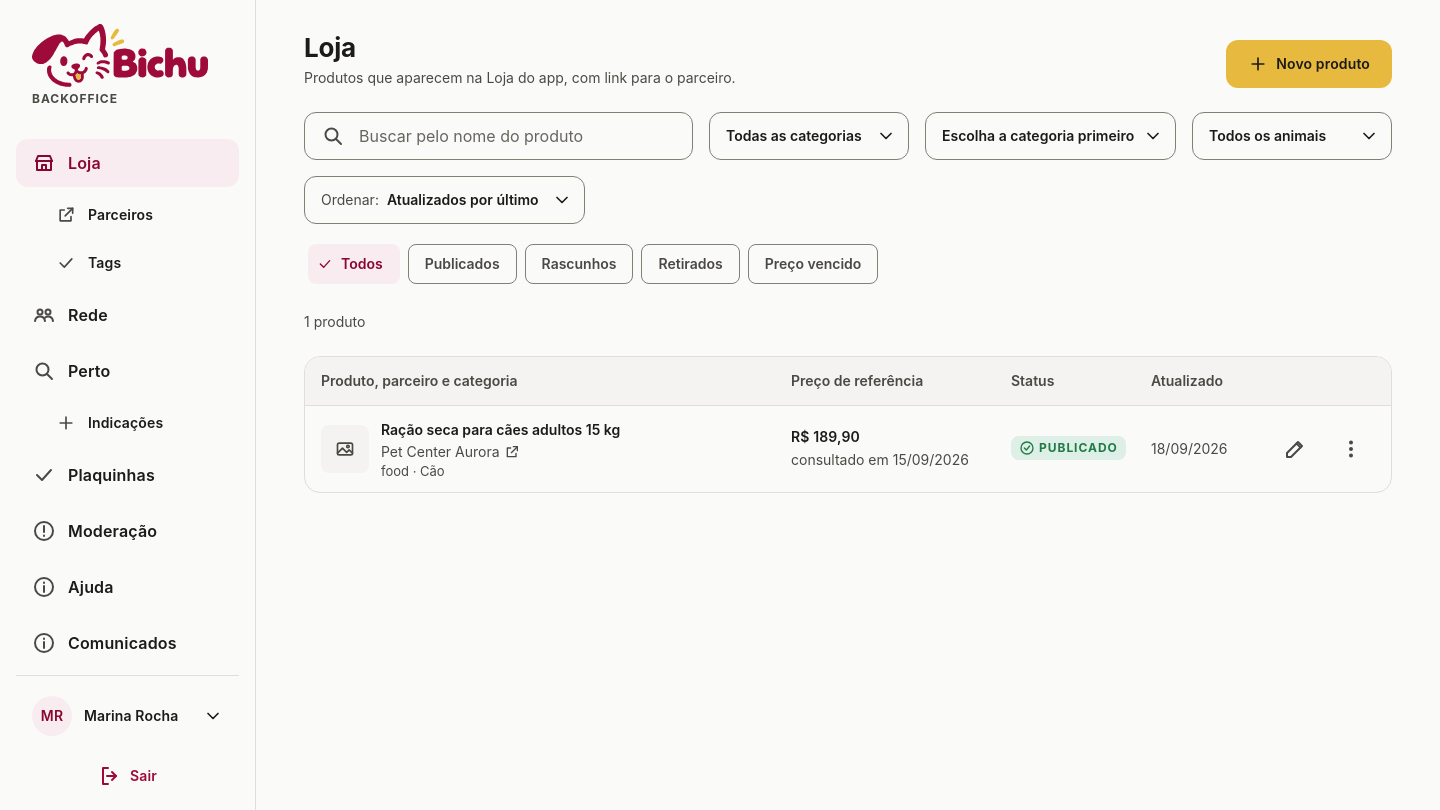
Test case: defeito 7: ganchos data-cy para o teste de ponta a ponta de hml › lista e formulario da Loja
The image size is (1440, 810).
Expected: the text "1 produto" is shown, left=304, top=313, right=365, bottom=330
Click the link with test id "loja-novo-produto" at (1309, 64), box left=1226, top=40, right=1392, bottom=88
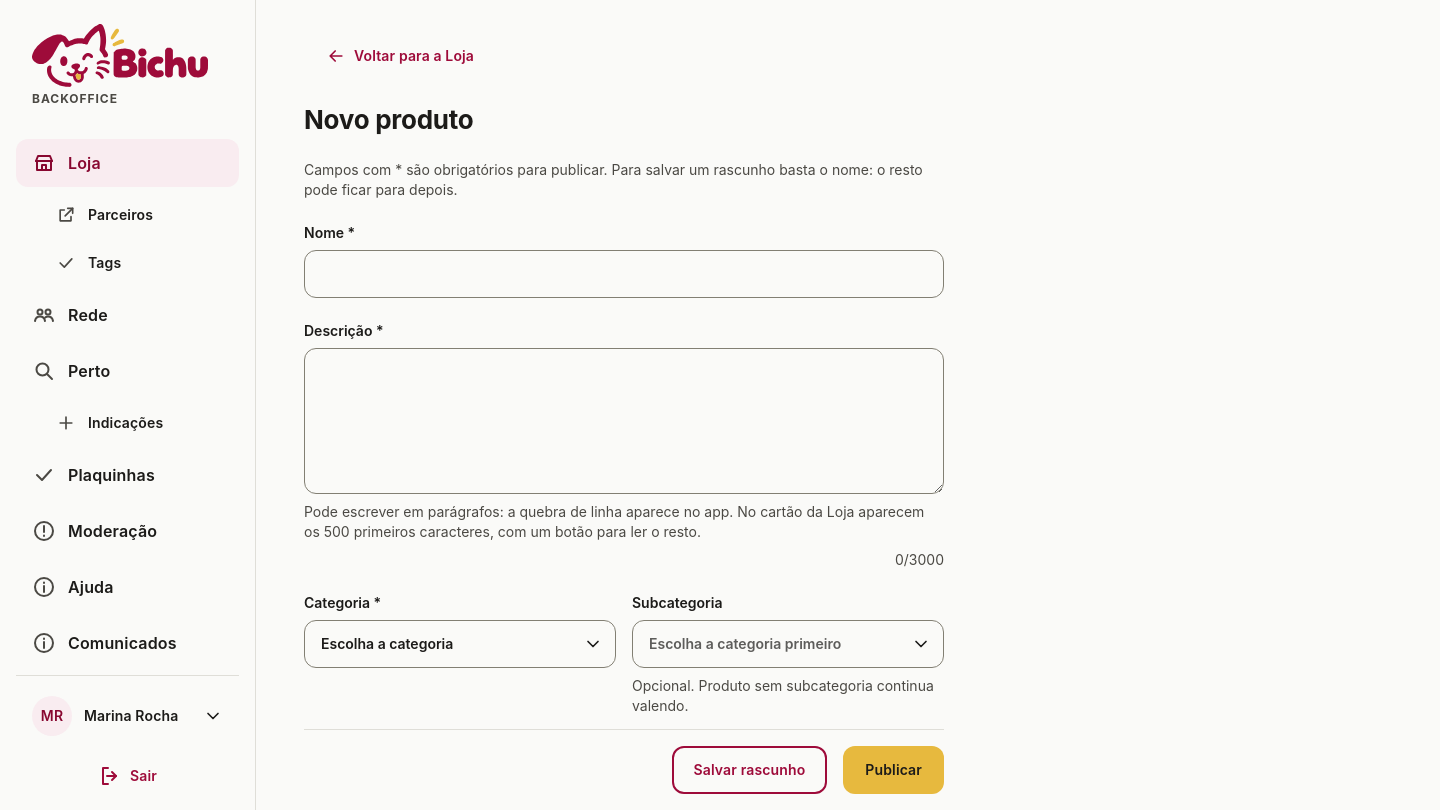
Expected: the field labelled "Nome *" is shown, left=304, top=250, right=944, bottom=298
